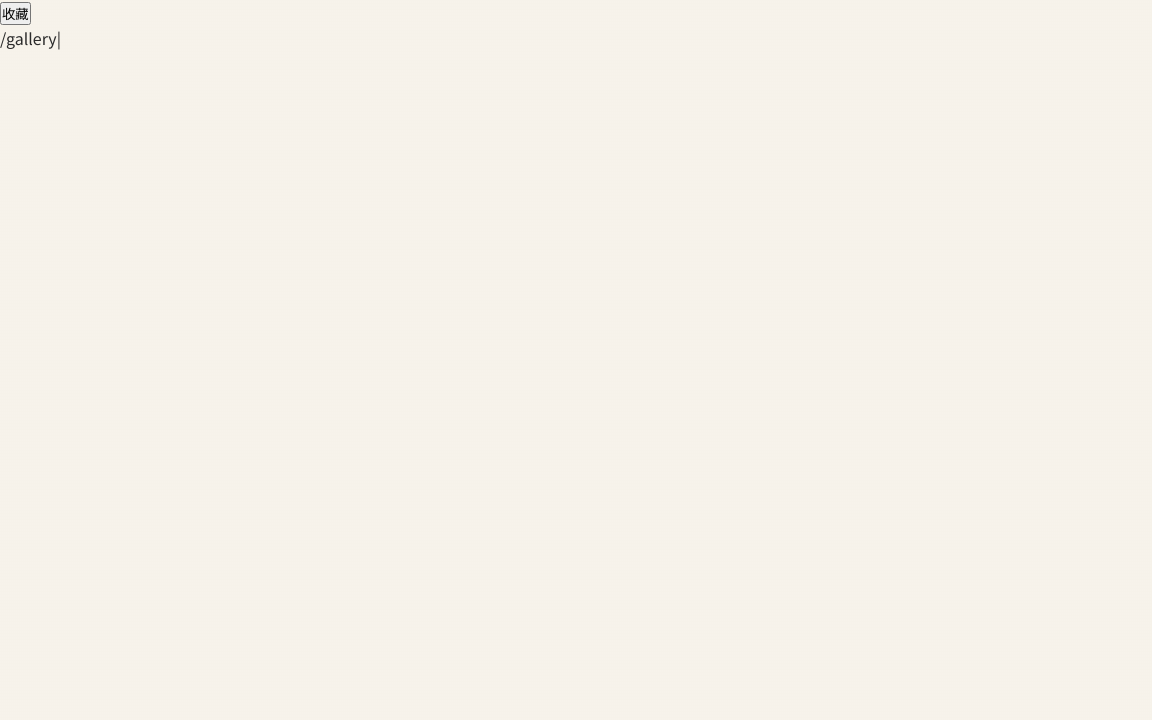
路由守卫分层 › 能力级引导未登录时弹层且不改变 URL
The image size is (1152, 720).
What coordinates should you click on to do the following:
click the button "收藏"
I would click on:
 (15, 14)
Its box is x1=0 y1=2 x2=31 y2=25.
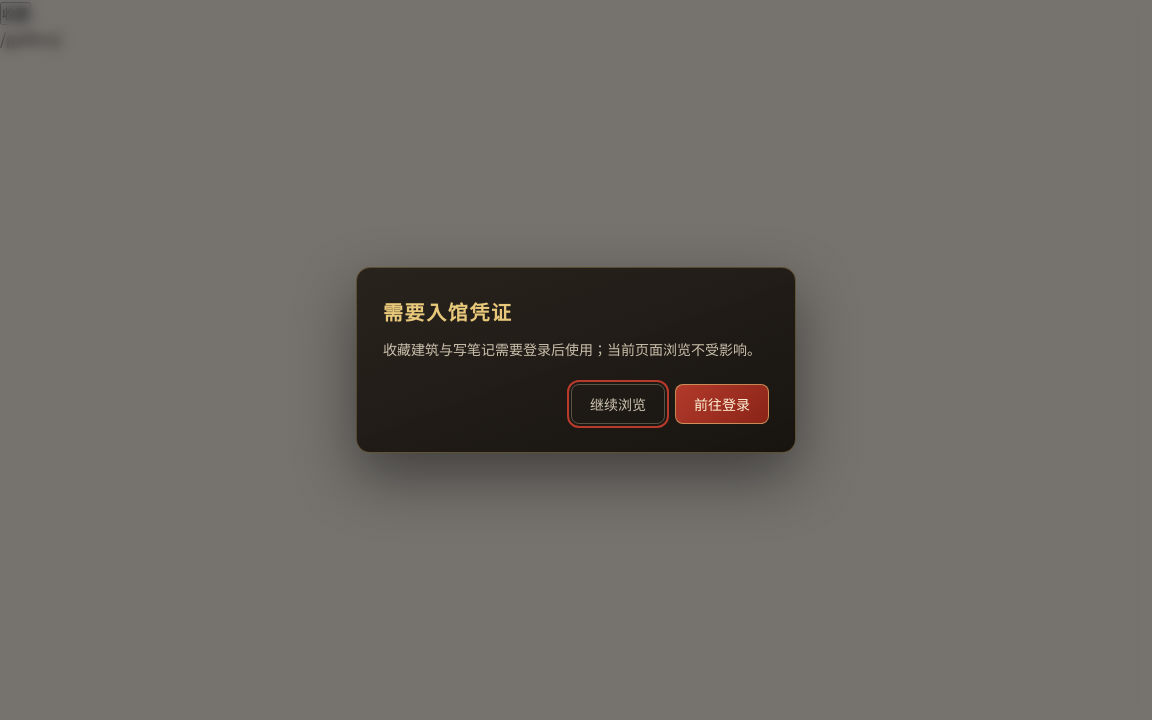
Expected: the text with test id "location" reads "/gallery|", x1=0 y1=26 x2=57 y2=50
Result: the heading "需要入馆凭证" is shown at x1=383 y1=297 x2=513 y2=326
